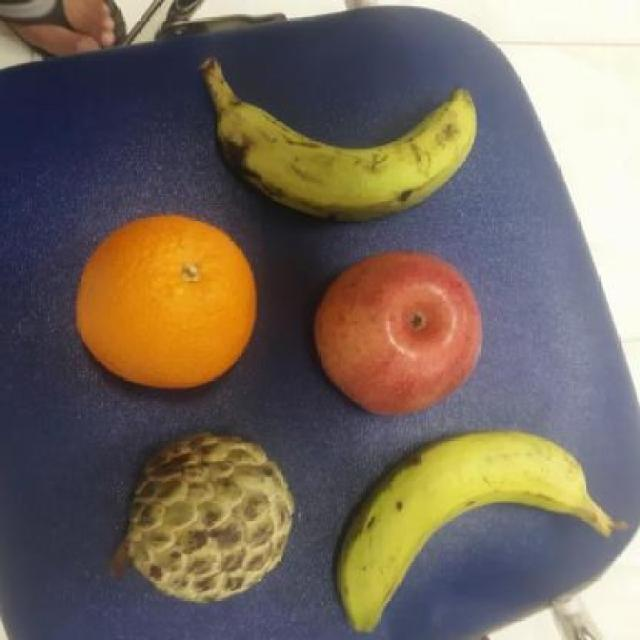apple: (310, 250, 485, 418)
banana: (329, 428, 600, 634), (208, 77, 480, 225)
oren: (75, 215, 259, 392)
sugar apple: (128, 428, 297, 607)
